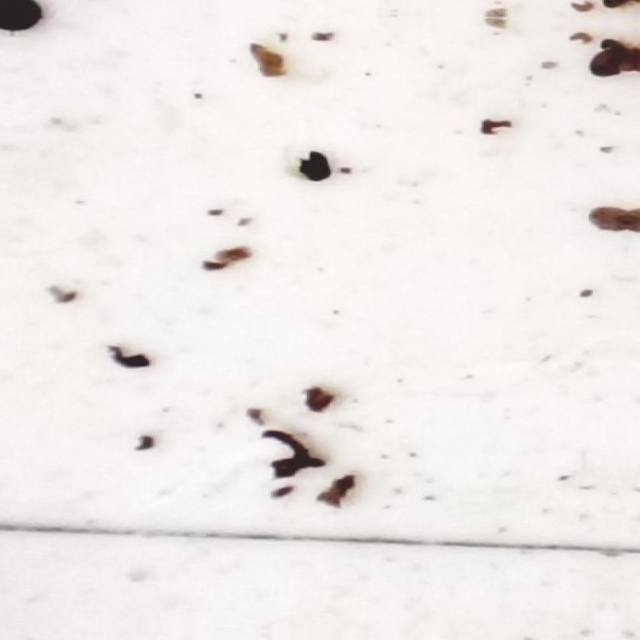varroa: (586, 40, 635, 76), (291, 149, 334, 186)
